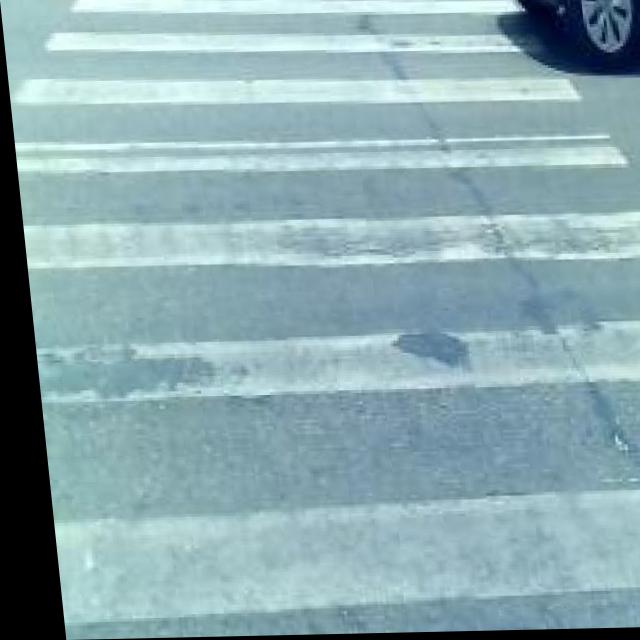zebra: (49, 0, 543, 639)
